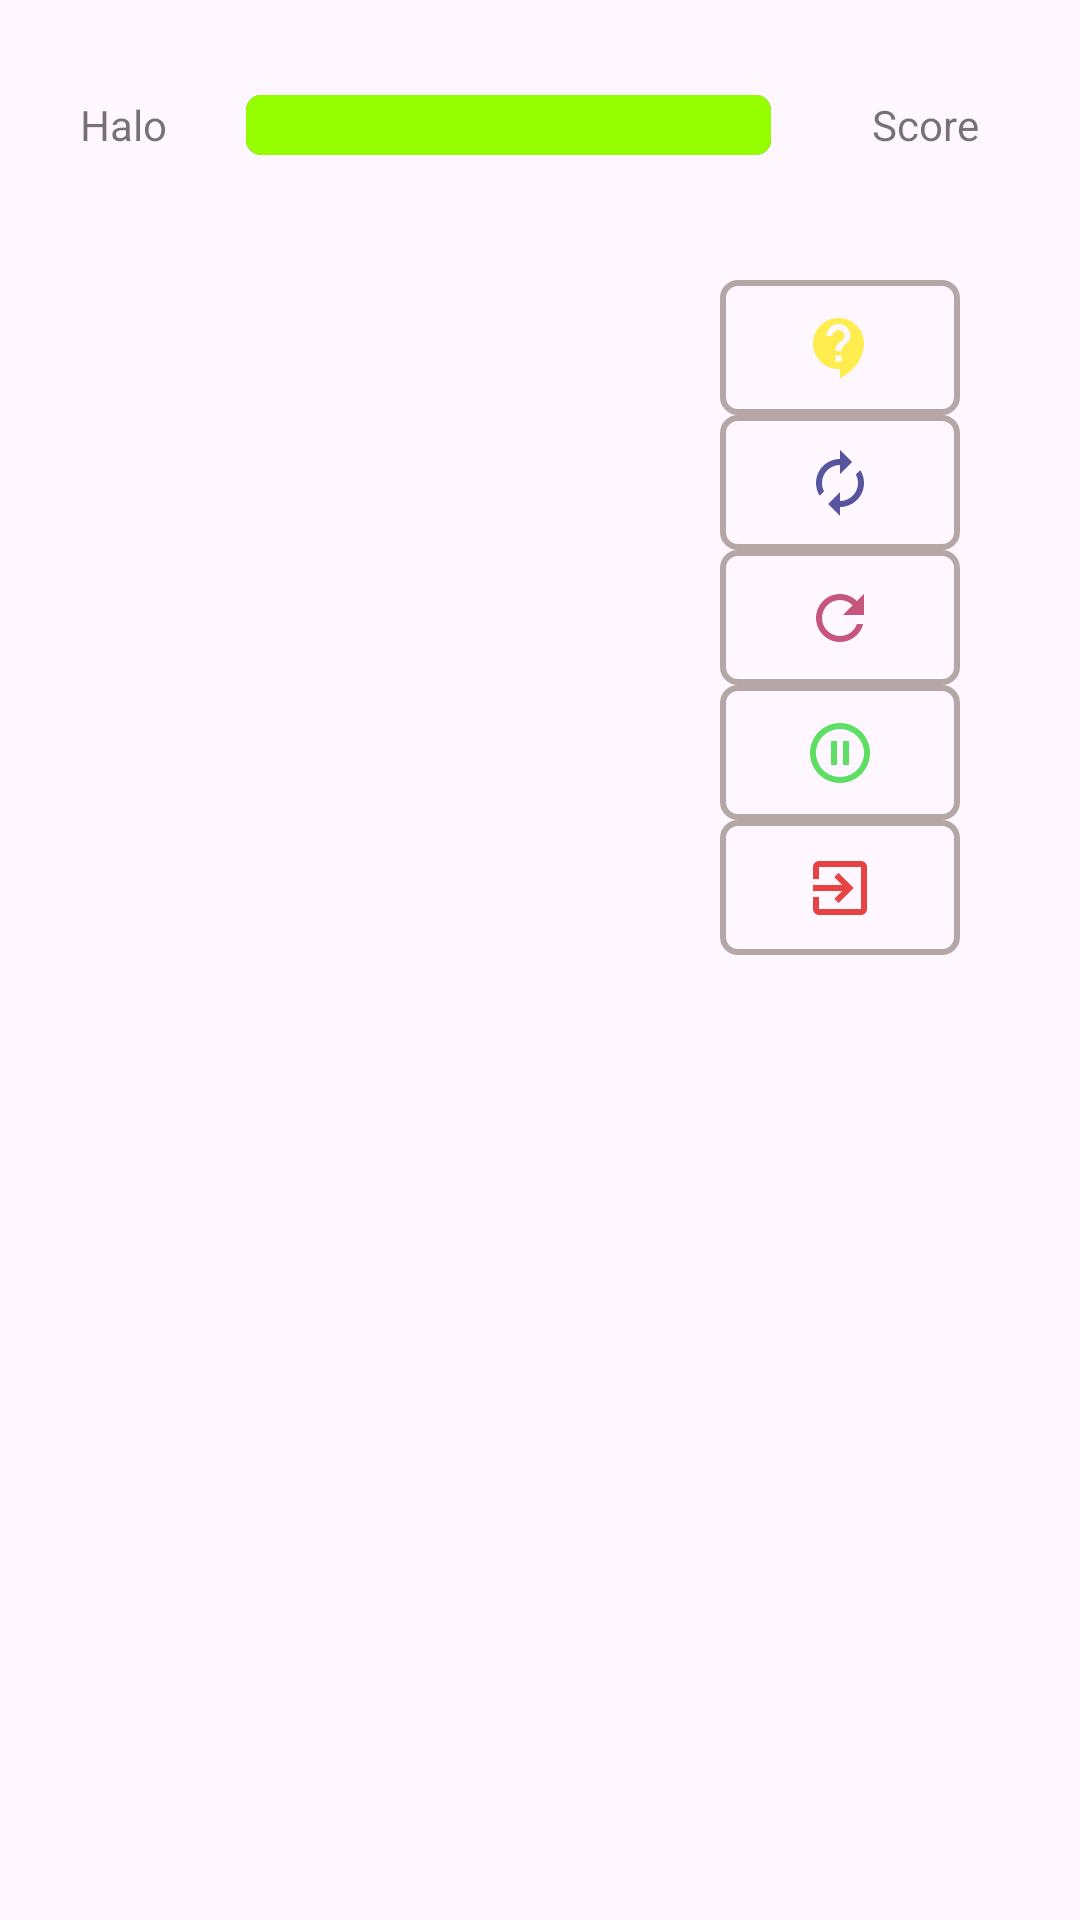

Where to tap for icons on this 1080 x 1920 app screen, as point (x, y):
Exit: point (840, 887)
New Game: point (840, 617)
Pause: point (840, 752)
Turn: point (840, 482)
